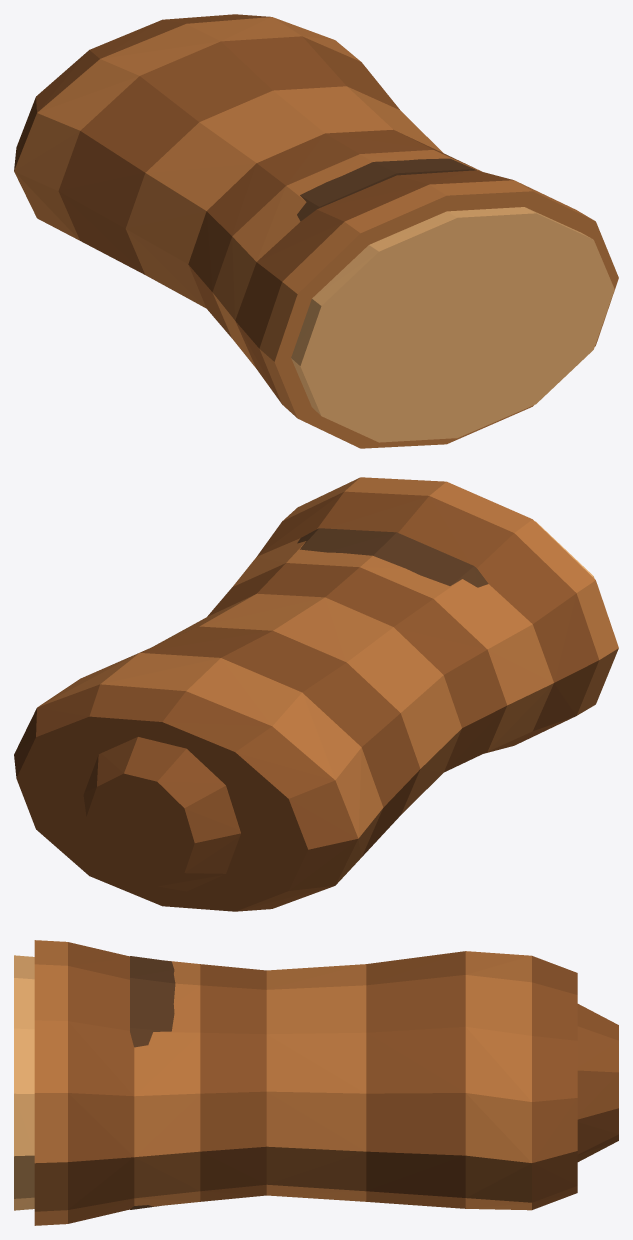
The model's file is drop_bronze_chainbody.glb.
3 renders of one model, top to bottom at view 1: azimuth 30°, elevation 25°; view 2: azimuth 150°, elevation 25°; view 3: azimuth 270°, elevation 25°, orthographic. The views are drawn at different scales.
Parts seen in each view (by area): view 1: drop_bronze_chainbody; view 2: drop_bronze_chainbody; view 3: drop_bronze_chainbody.
Part boxes in pixels (box(x1,y1,x2,y2)): drop_bronze_chainbody: box(14, 14, 618, 448); drop_bronze_chainbody: box(14, 477, 618, 911); drop_bronze_chainbody: box(14, 940, 618, 1225).
Bounding box in the file's own units: 0.3664 × 0.2528 × 0.584.
